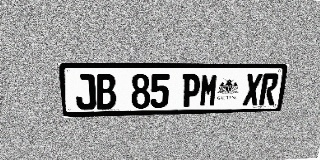5: (150, 74, 170, 108)
8: (131, 74, 150, 109)
B: (95, 74, 116, 110)
J: (74, 74, 96, 110)
M: (199, 73, 219, 107)
P: (181, 73, 201, 107)
R: (258, 73, 279, 105)
X: (242, 73, 263, 106)
